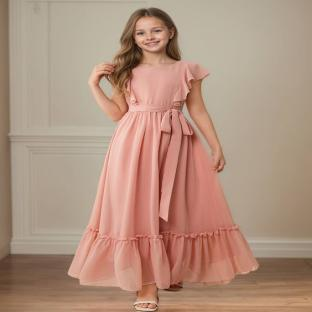Human: (68, 8, 258, 312)
